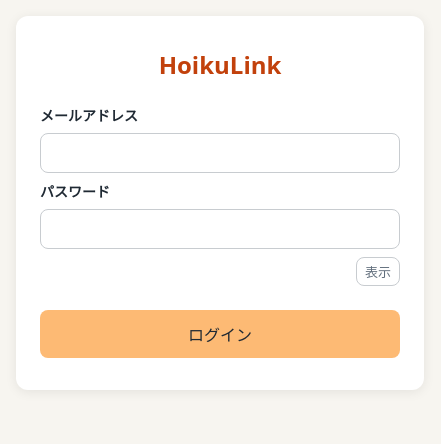
Test: ログイン画面 › 未入力のまま送信すると入力を求める文を表示する。
Click the button "ログイン".
click(220, 334)  # box [40,310,400,358]
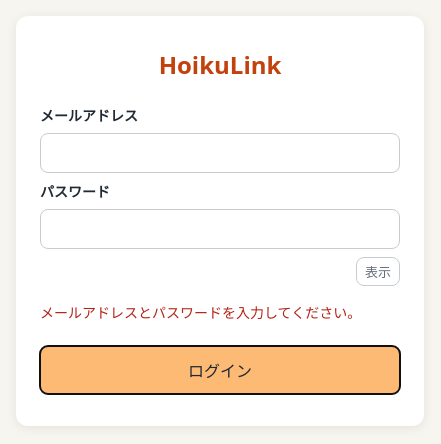
Check: the message reads "メールアドレスとパスワードを入力してください。", box [40,303,361,322]
